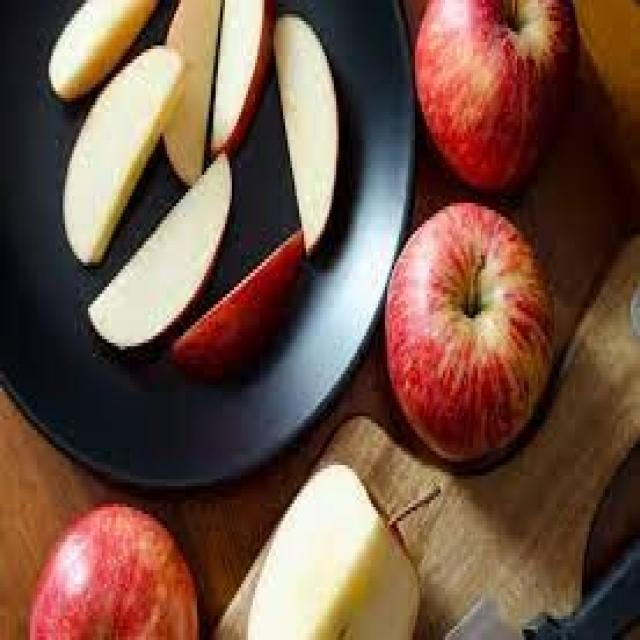Apple: (401, 203, 561, 458), (232, 454, 443, 640), (56, 38, 192, 273), (91, 143, 241, 350), (267, 14, 364, 266), (30, 482, 174, 640), (174, 228, 318, 368)
